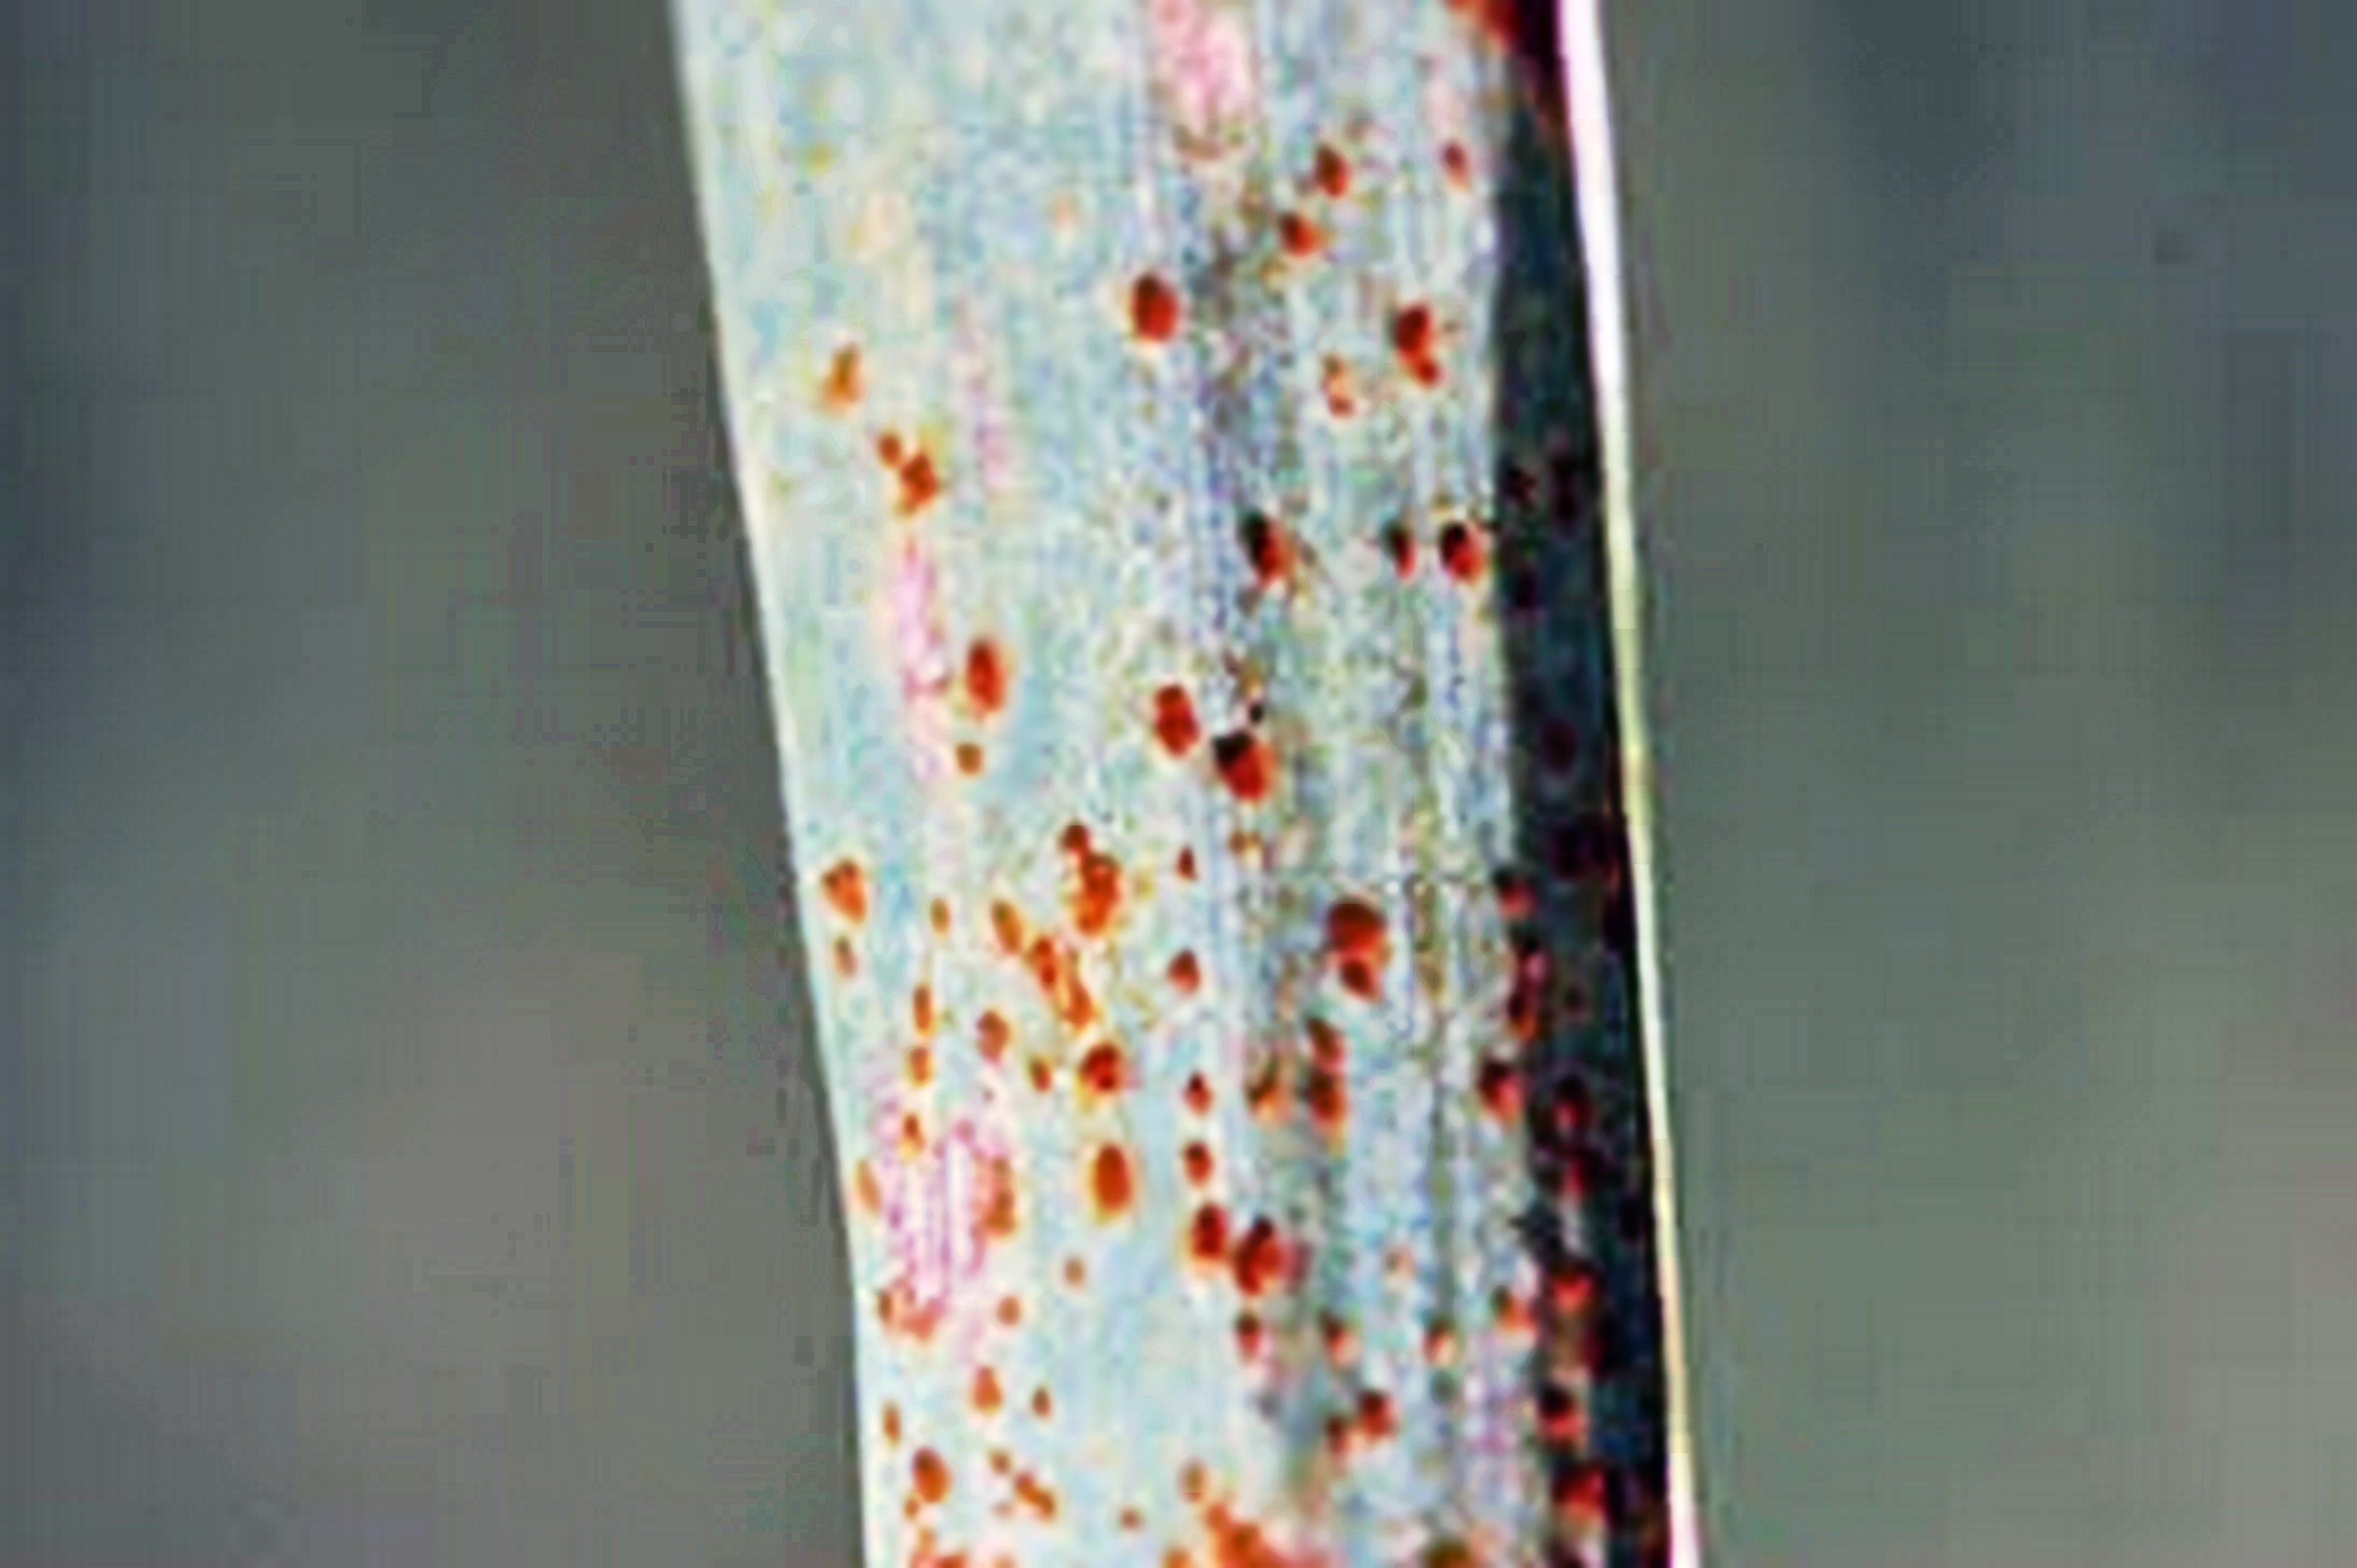Leaf Rust: (765, 276, 1683, 1547)
